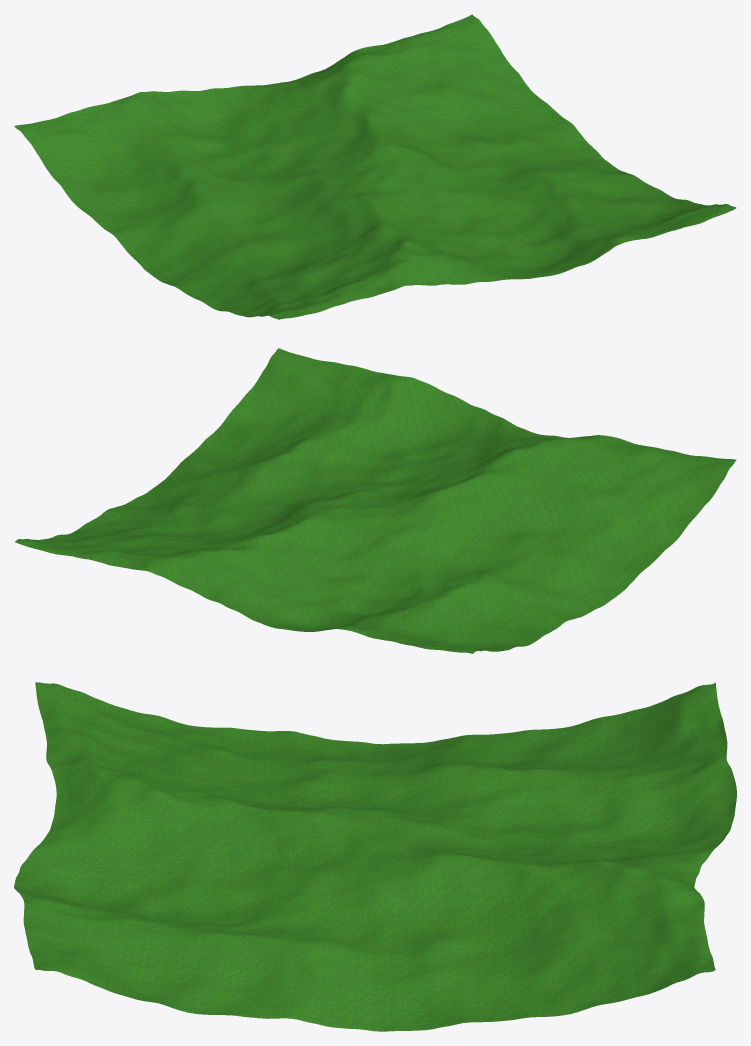
The model's file is land.obj.
3 views of the same model, one above another, from view 1: azimuth 30°, elevation 25°; view 2: azimuth 150°, elevation 25°; view 3: azimuth 270°, elevation 25° (orthographic). The views are drawn at different scales.
Parts seen in each view (by area): view 1: Plane; view 2: Plane; view 3: Plane.
Part boxes in pixels (bbox=[...]): Plane: bbox=[14, 14, 736, 319]; Plane: bbox=[15, 348, 736, 653]; Plane: bbox=[14, 682, 736, 1031].
Bounding box in the file's own units: 391 × 41.05 × 410.
1 material, 1 textured.
